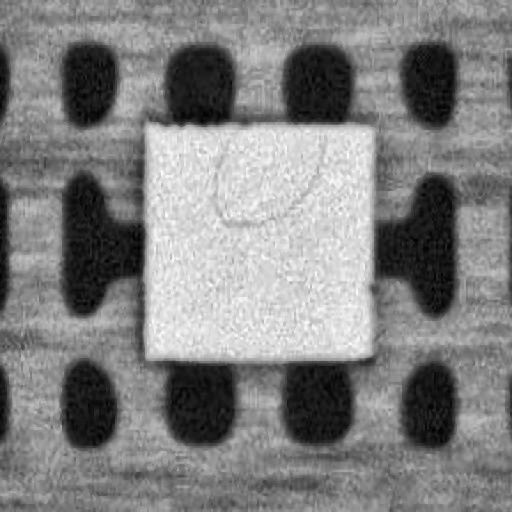DIE_CRACK: (212, 125, 320, 220)
